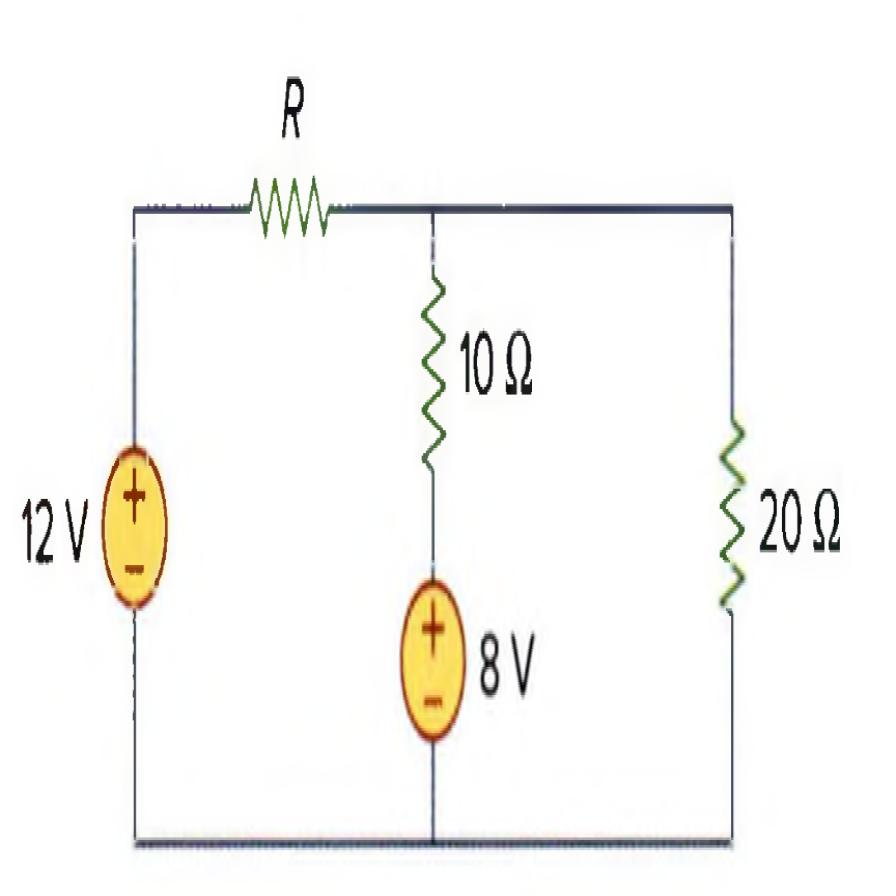R1: (231, 148, 343, 264)
R2: (715, 388, 752, 655), (410, 264, 454, 487)
V1: (385, 566, 474, 758), (93, 424, 172, 636)
